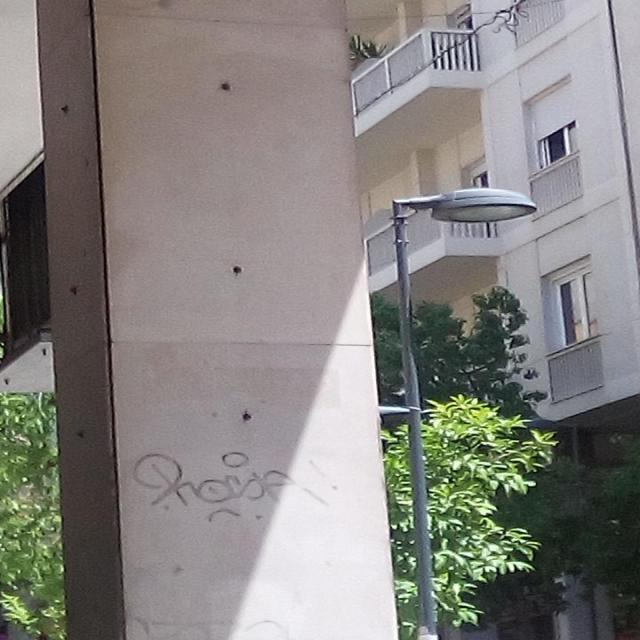nonspitting: (134, 451, 338, 523)
